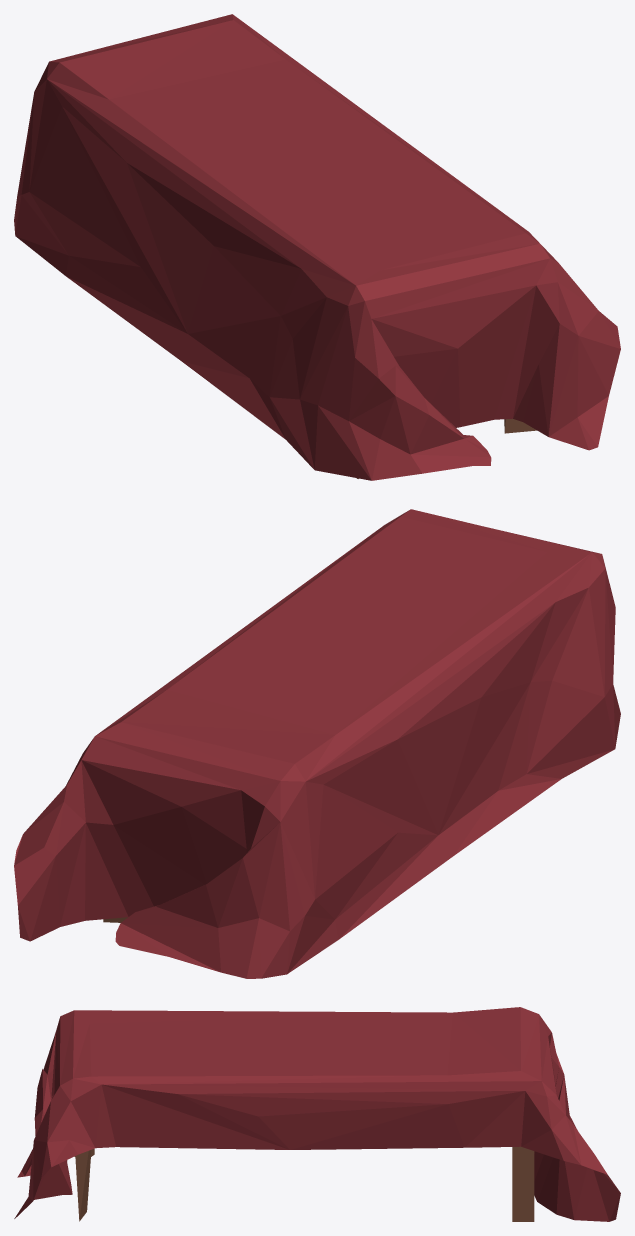
Rendered from SM_Table.fbx.
3 renders of one model, top to bottom at view 1: azimuth 30°, elevation 25°; view 2: azimuth 150°, elevation 25°; view 3: azimuth 270°, elevation 25°, orthographic. The views are drawn at different scales.
Parts seen in each view (by area): view 1: Table; view 2: Table; view 3: Table.
Boxes of the visible parts, x1,y1,x2,y2 form: Table: (14,14,620,480); Table: (14,509,620,978); Table: (14,1007,620,1221).
Bounding box in the file's own units: 149 × 99.92 × 372.
